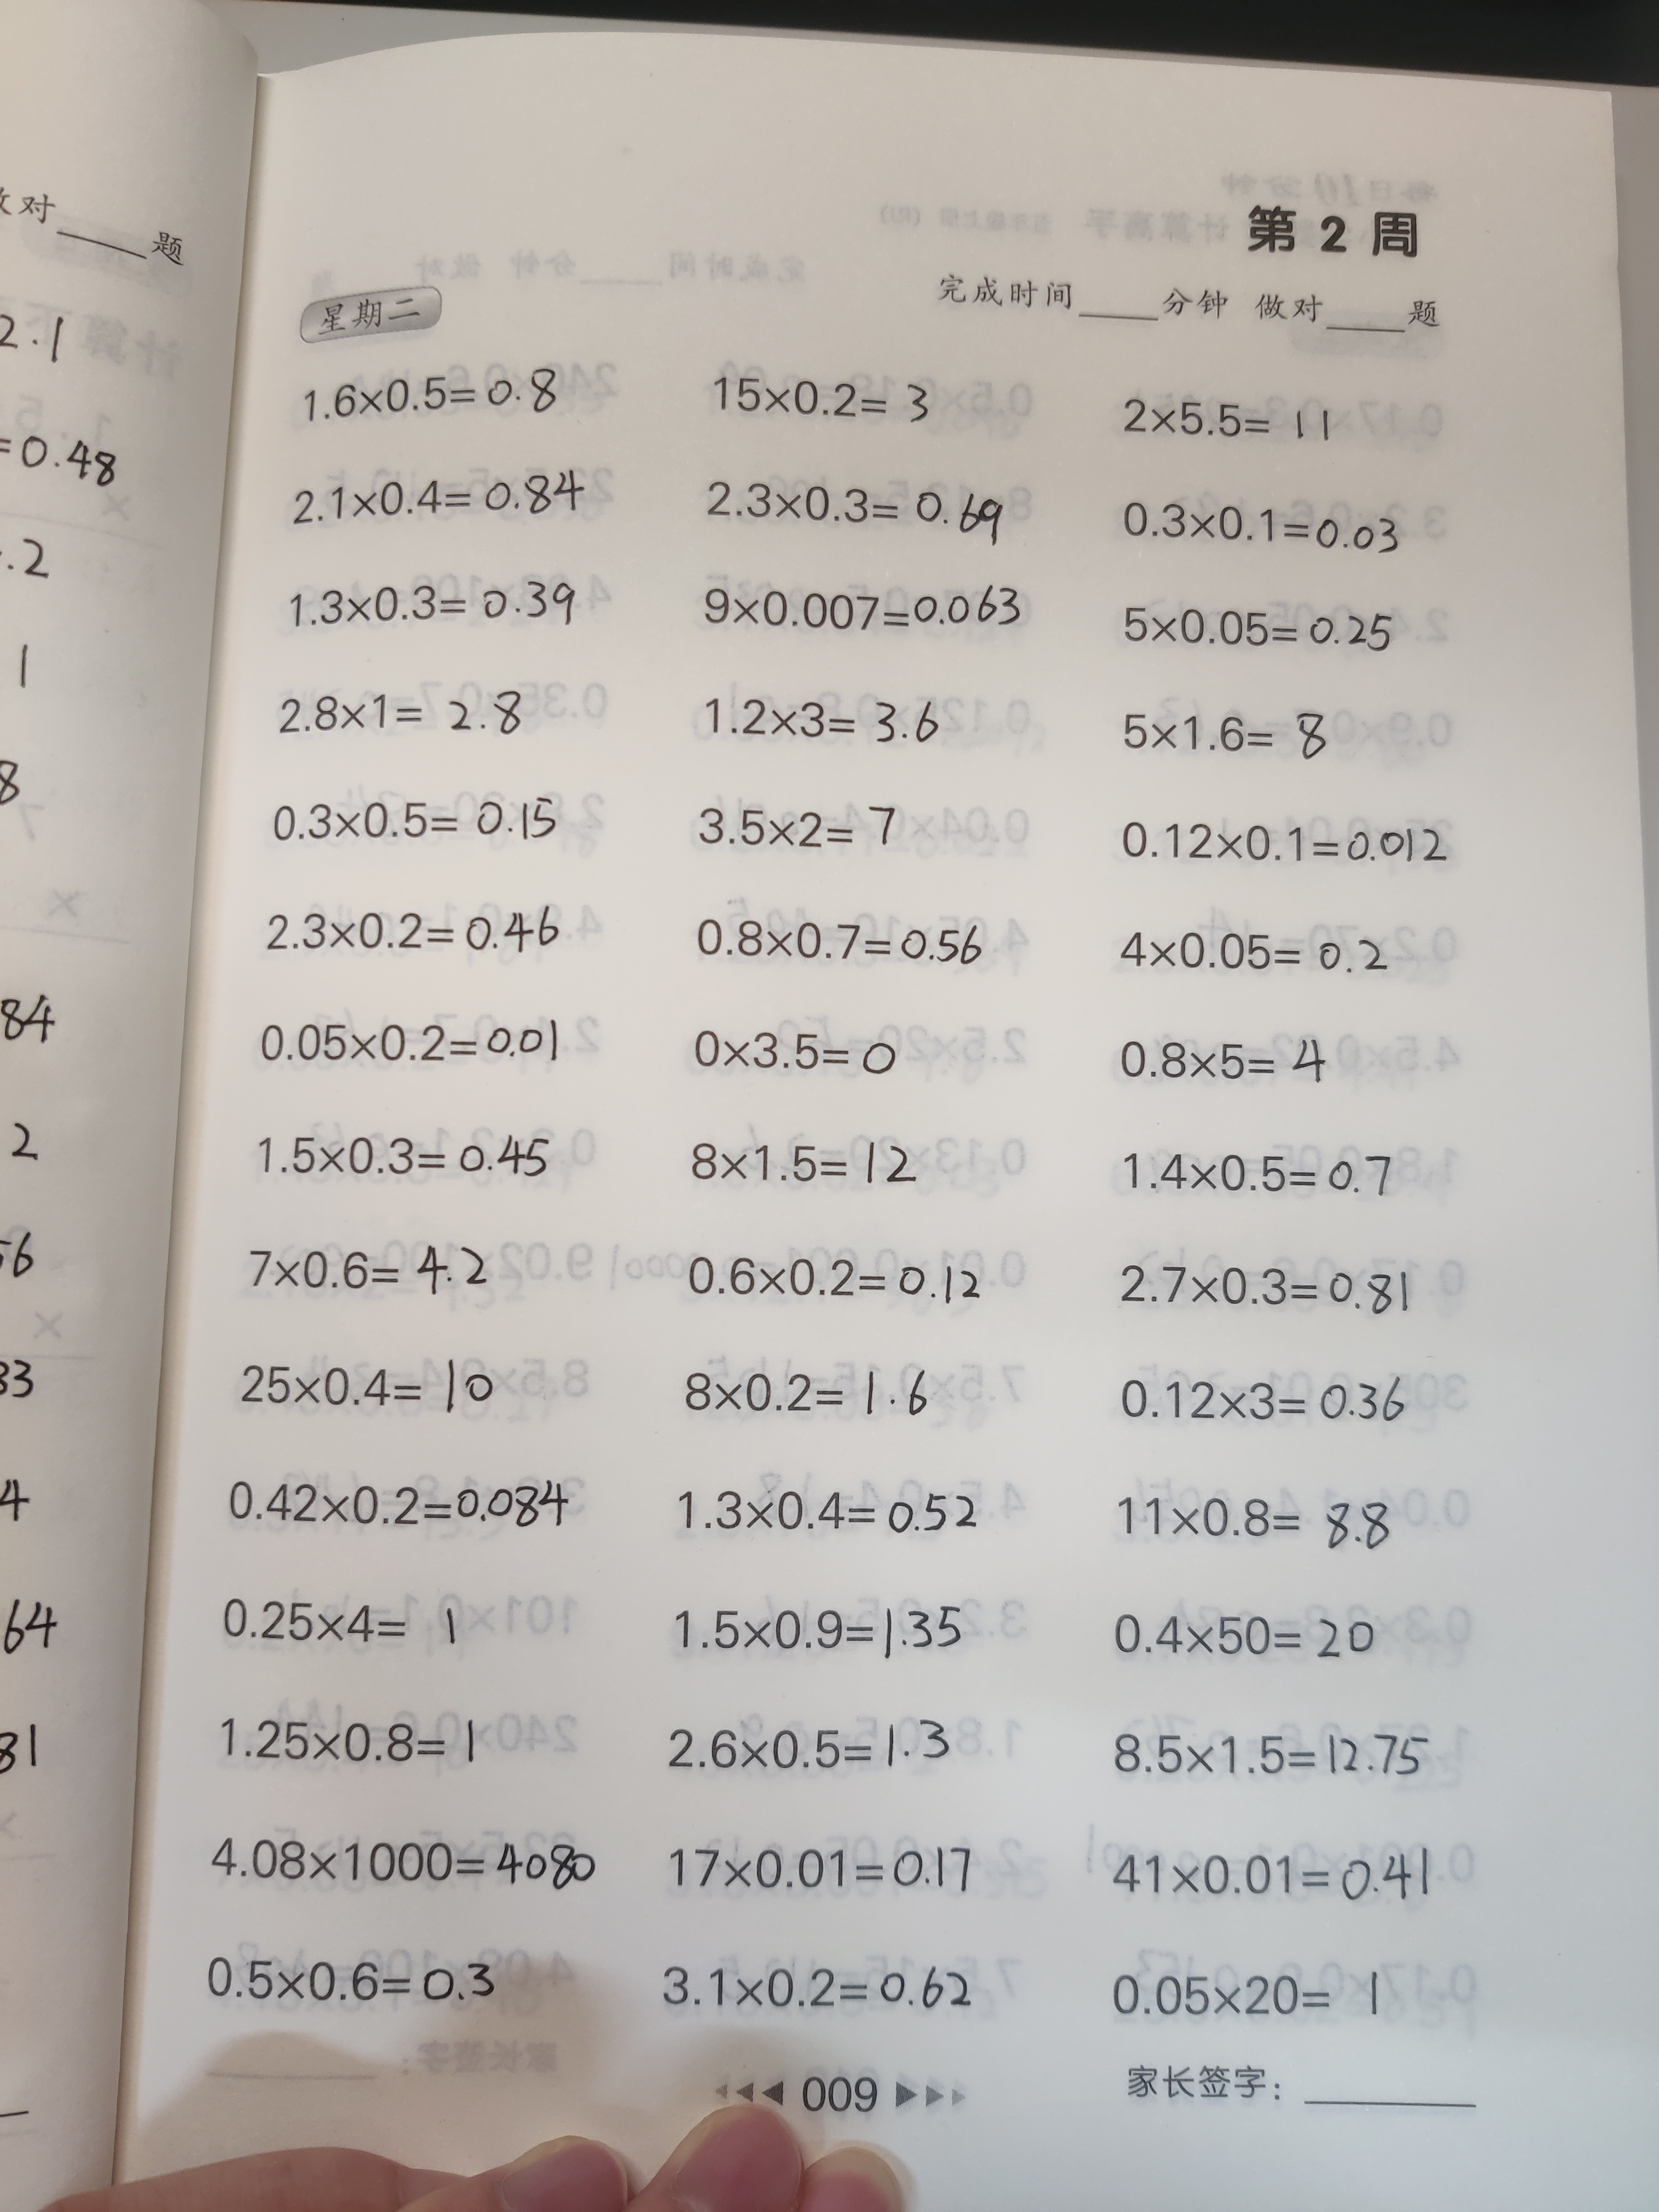equation: (194, 1815, 597, 1909), (1097, 1830, 1444, 1923), (645, 1825, 997, 1916), (212, 1464, 573, 1548), (650, 1948, 992, 2036), (660, 1702, 965, 1798), (1100, 1950, 1403, 2046), (1109, 1250, 1425, 1342), (670, 1349, 946, 1452), (256, 892, 576, 981), (1109, 803, 1446, 887), (691, 466, 1006, 553), (674, 894, 999, 978), (1114, 1479, 1412, 1570), (1095, 368, 1362, 469), (686, 570, 1037, 646), (660, 1472, 984, 1553), (246, 1118, 571, 1199), (1112, 1135, 1407, 1224), (672, 1000, 924, 1104), (1109, 1368, 1425, 1450), (1107, 481, 1410, 565), (246, 1005, 573, 1082), (194, 1943, 508, 2022), (1105, 1721, 1437, 1796), (670, 1245, 997, 1320), (1102, 914, 1407, 993), (260, 666, 549, 750), (660, 1597, 975, 1673), (205, 1707, 501, 1789), (290, 356, 585, 437), (278, 565, 583, 644), (251, 776, 571, 851), (1090, 1599, 1398, 1676), (210, 1582, 470, 1671), (229, 1354, 511, 1436), (237, 1229, 506, 1313), (278, 457, 588, 529), (681, 346, 946, 430), (1107, 1019, 1343, 1111), (660, 1125, 922, 1207), (684, 786, 910, 880), (1117, 591, 1398, 664), (696, 685, 958, 757), (1107, 695, 1343, 774)
